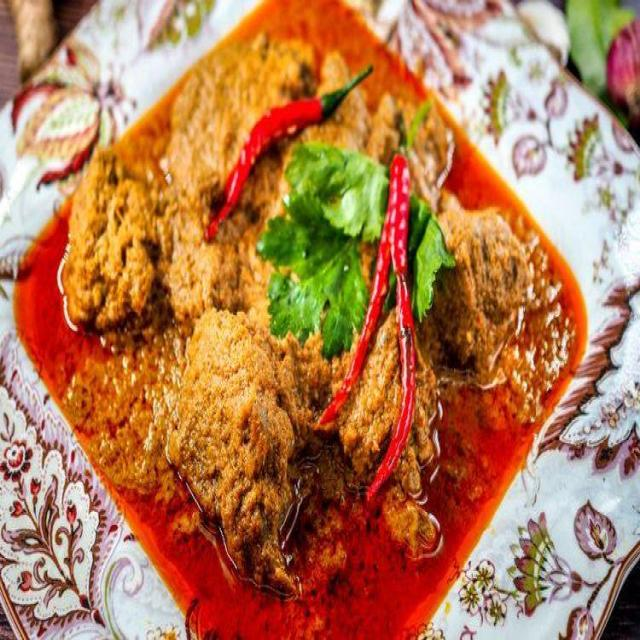Rendang: (63, 21, 543, 572)
